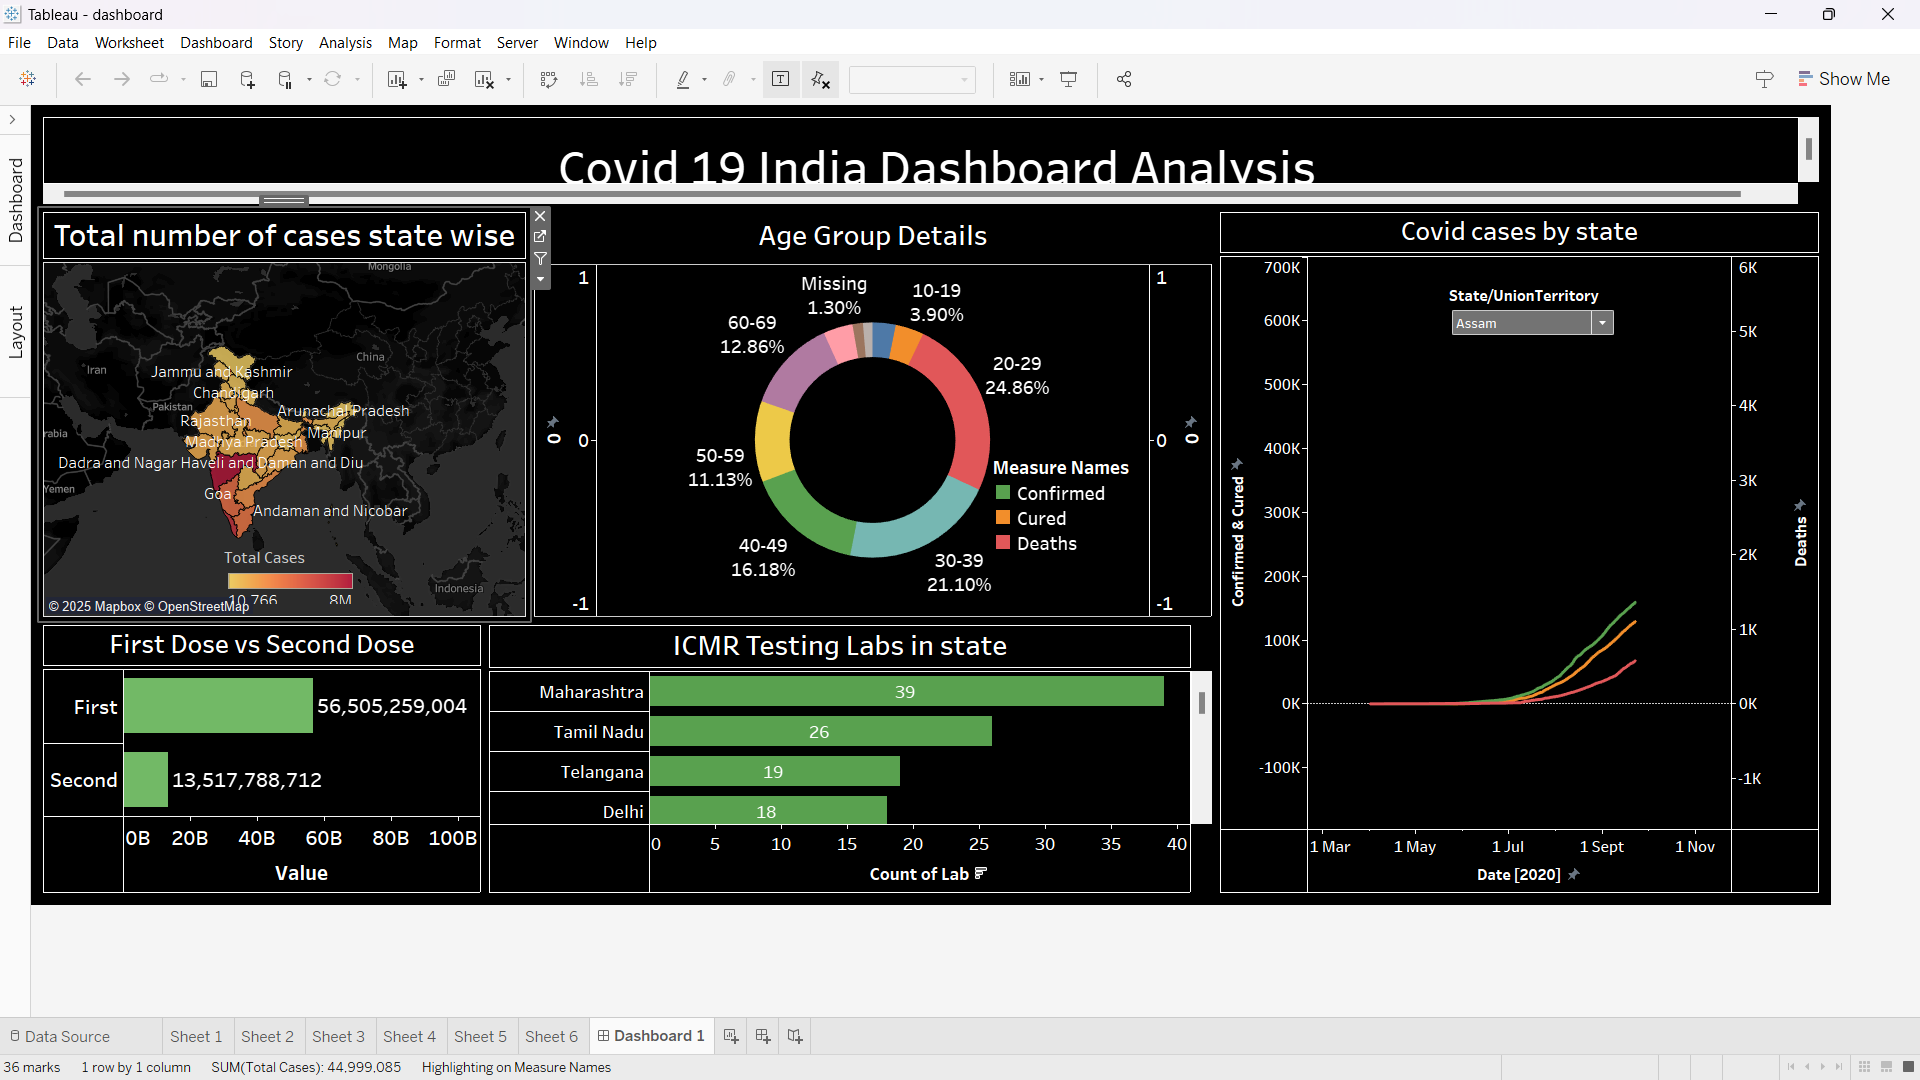

The page's visual inventory and layout, read from the dashboard file:
{"tool":"tableau","page":{"name":"Dashboard 1","canvas":[1800,800],"ordinal":0},"visuals":[{"type":"worksheet","title":"Sheet 6","mark":"Automatic","box":[8,8,1784,95]},{"type":"worksheet","title":"Sheet 1","mark":"Automatic","box":[8,103,490.6,413]},{"type":"worksheet","title":"Sheet 4","mark":"Pie","rows":["Calculation_603200878600343553","Calculation_603200878600343553"],"box":[498.6,103,686.2,413]},{"type":"worksheet","title":"Sheet 2","mark":"Automatic","rows":["Deaths"],"cols":["Date"],"box":[1184.8,103,607.2,689]},{"type":"filter","title":"Sheet 2","param":"[federated.1v5focb0qbnhf418p9x3s19lxpa9].[none:State/UnionTerritory:nk]","box":[1077,187,168,61]},{"type":"legend","title":"Sheet 2","param":"[federated.1v5focb0qbnhf418p9x3s19lxpa9].[:Measure Names]","box":[821,363,140,101]},{"type":"legend","title":"Sheet 1","param":"[federated.0ikjtou0wkijn9104twlt0tkj2o6].[sum:Total Cases:qk]","box":[193,442,133,57]},{"type":"worksheet","title":"Sheet 3","mark":"Automatic","box":[8,516,445.9,276]},{"type":"worksheet","title":"Sheet 5","mark":"Automatic","rows":["state"],"cols":["lab"],"box":[453.9,516,730.8,276]}]}

Visuals, with their boxes in screenshot pixels (x1, y1, x2, y2):
"Sheet 6" worksheet: 18, 98, 1828, 195
"Sheet 1" worksheet: 18, 195, 516, 614
"Sheet 4" worksheet (Pie marks): 516, 195, 1212, 614
"Sheet 2" worksheet: 1212, 195, 1828, 894
"Sheet 2" filter: 1103, 280, 1273, 342
"Sheet 2" legend: 843, 458, 985, 561
"Sheet 1" legend: 206, 538, 341, 596
"Sheet 3" worksheet: 18, 614, 471, 894
"Sheet 5" worksheet: 471, 614, 1212, 894
